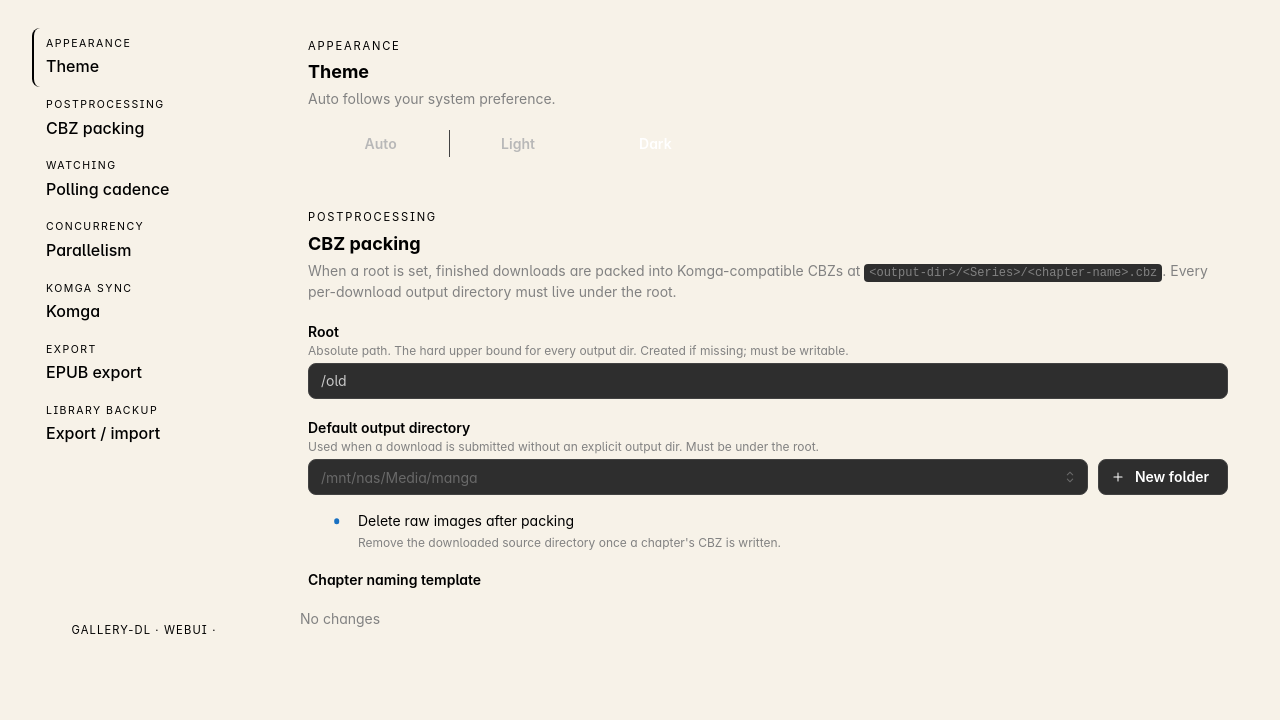
Test: ConfigPanel › sends null root when the field is cleared
The image size is (1280, 720).
Later steps or results of the test are not shown.
Clear the field labelled "Root" at [768, 381], box [308,363,1228,399]
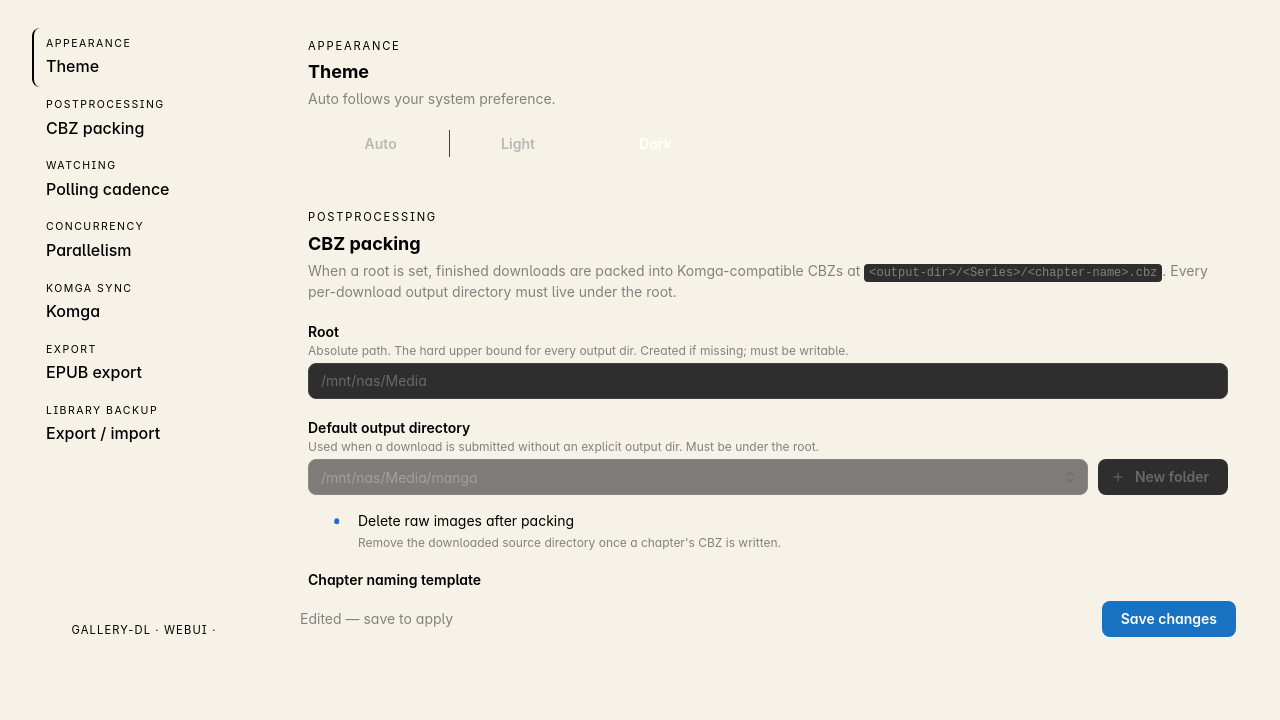
Now the button "Save changes" is enabled, box [1102,601,1236,637]
